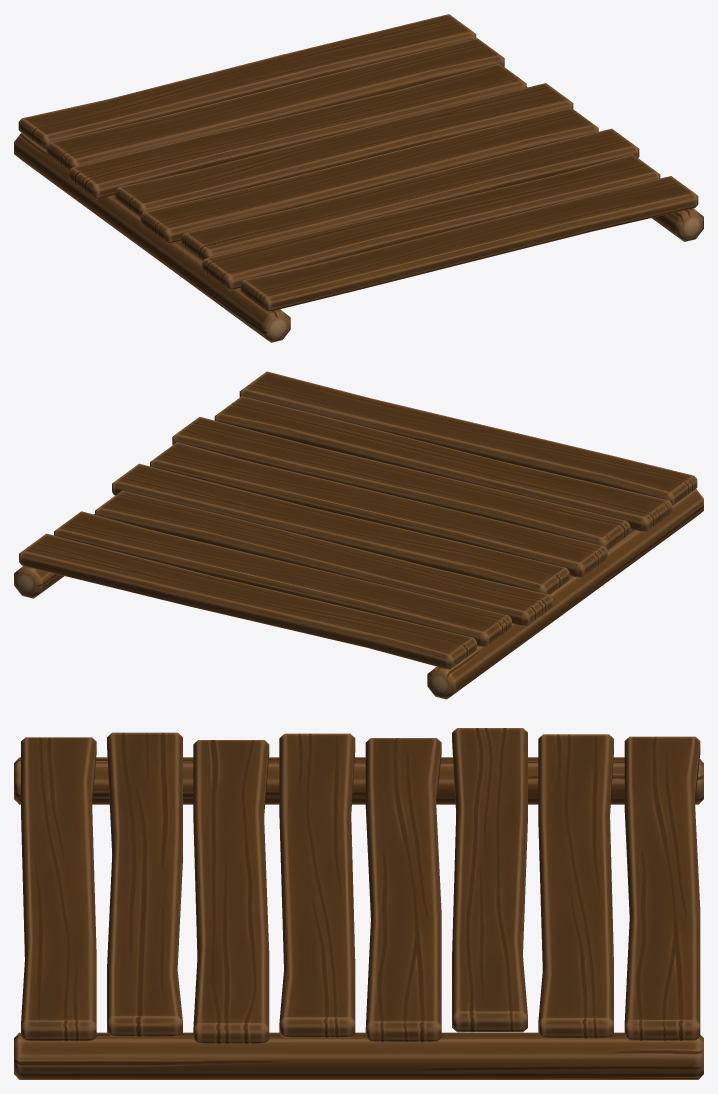
The model's file is planks.1.fbx.
3 renders of one model, top to bottom at view 1: azimuth 30°, elevation 25°; view 2: azimuth 150°, elevation 25°; view 3: azimuth 270°, elevation 25°, orthographic. The views are drawn at different scales.
Parts seen in each view (by area): view 1: Planks.1; view 2: Planks.1; view 3: Planks.1.
Part boxes in pixels (bbox=[...]): Planks.1: bbox=[14, 14, 703, 342]; Planks.1: bbox=[14, 371, 703, 699]; Planks.1: bbox=[14, 728, 703, 1079].
Size of the model in its own units: 206 by 18.99 by 200.
